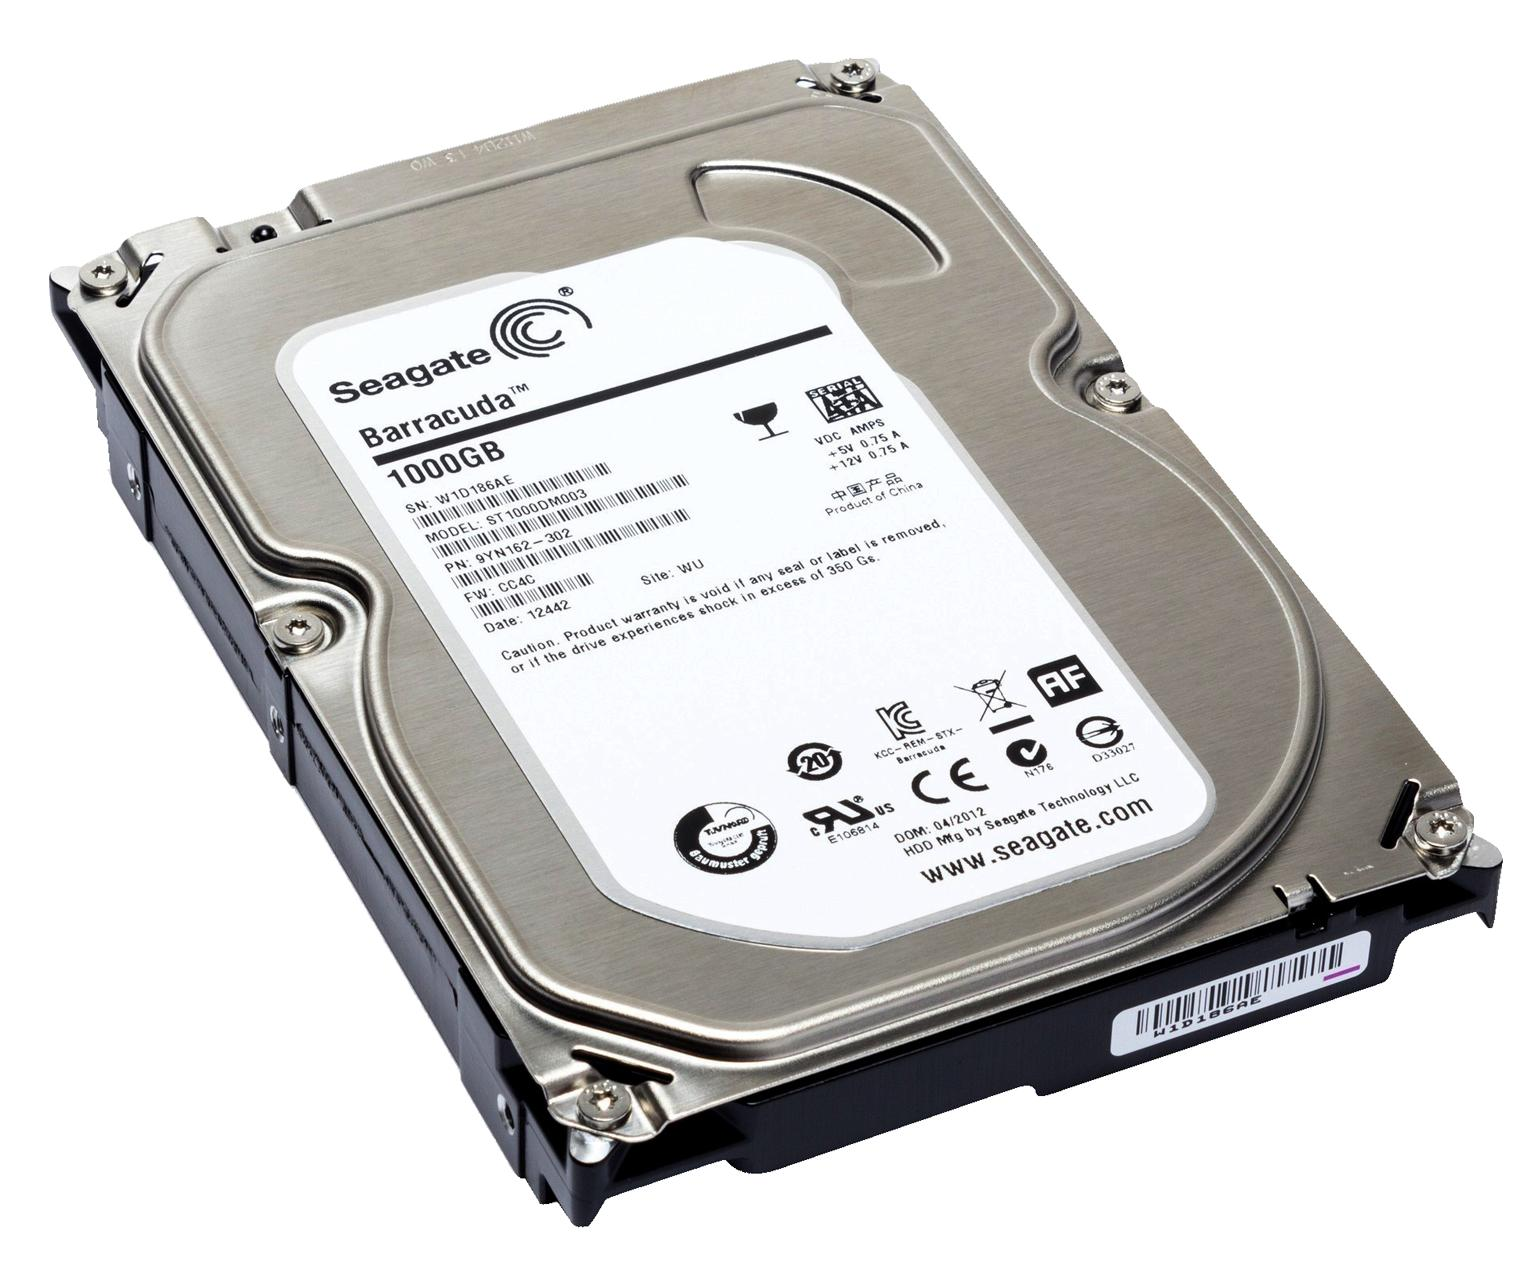internal HDD: (48, 60, 1505, 1229)
